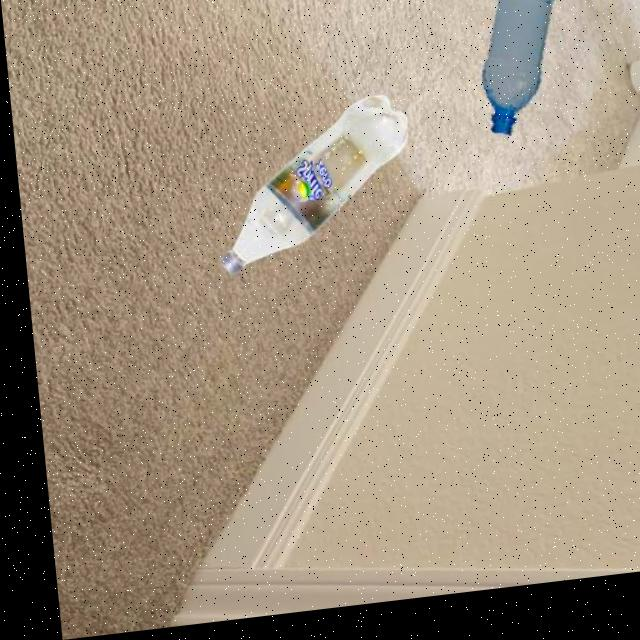litter: (430, 0, 627, 168)
